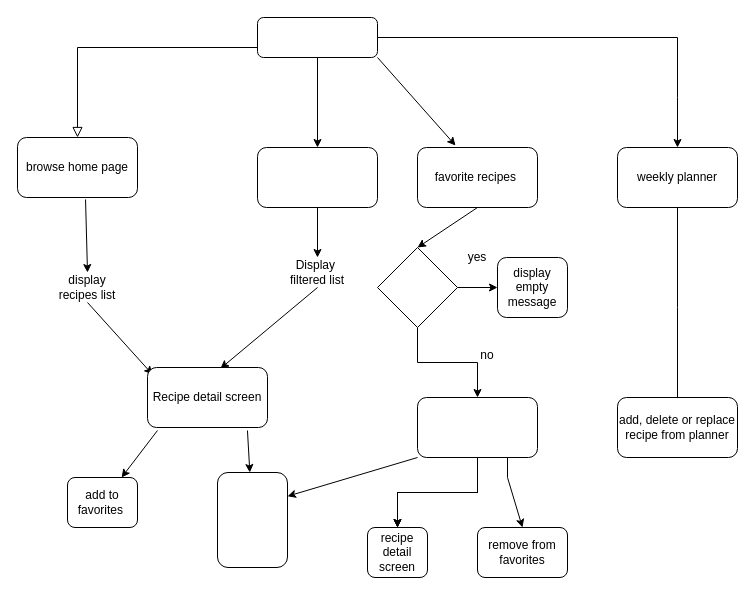
This 755x595 diagram has some shape labels left out. The shapes that lost their labels are listed below. From the top down, each one's centre as x and y in pixels, then its label:
At point (317, 37): "User logs on".
At point (317, 177): "searches a recipe".
At point (417, 287): "is favorites empty?".
At point (477, 427): "view favorites list".
At point (252, 520): "add or replace from planner".
